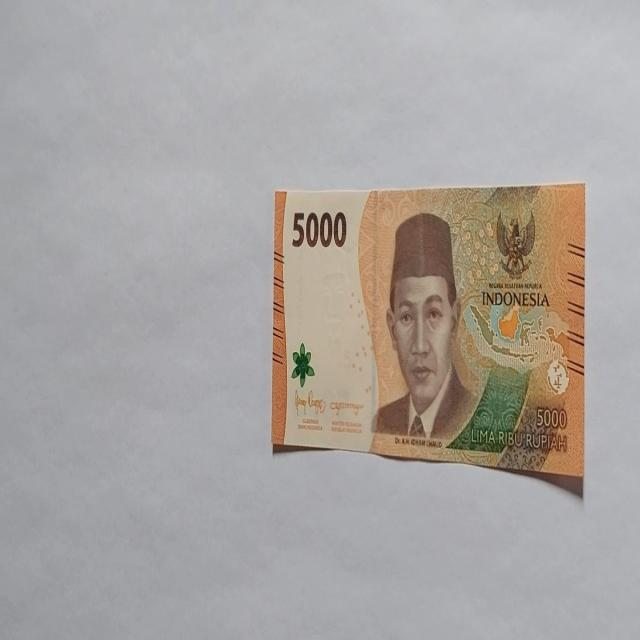lima ribu rupiah: (270, 184, 587, 499), (370, 211, 478, 444)
